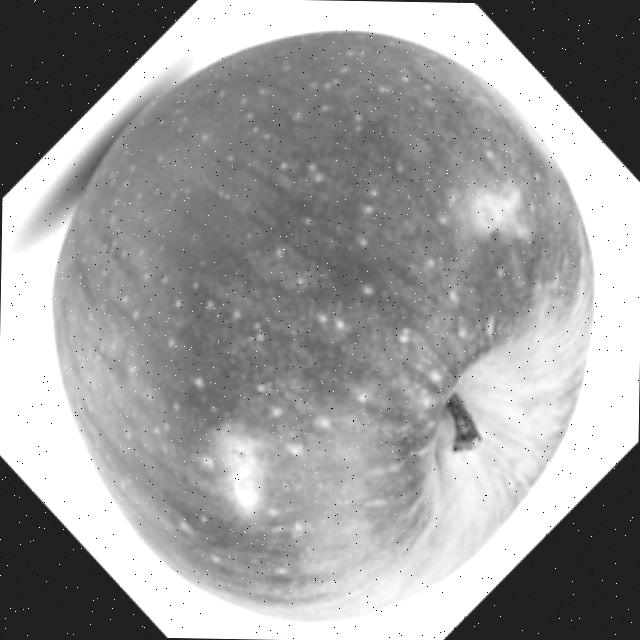Ripe: (42, 21, 604, 637)
